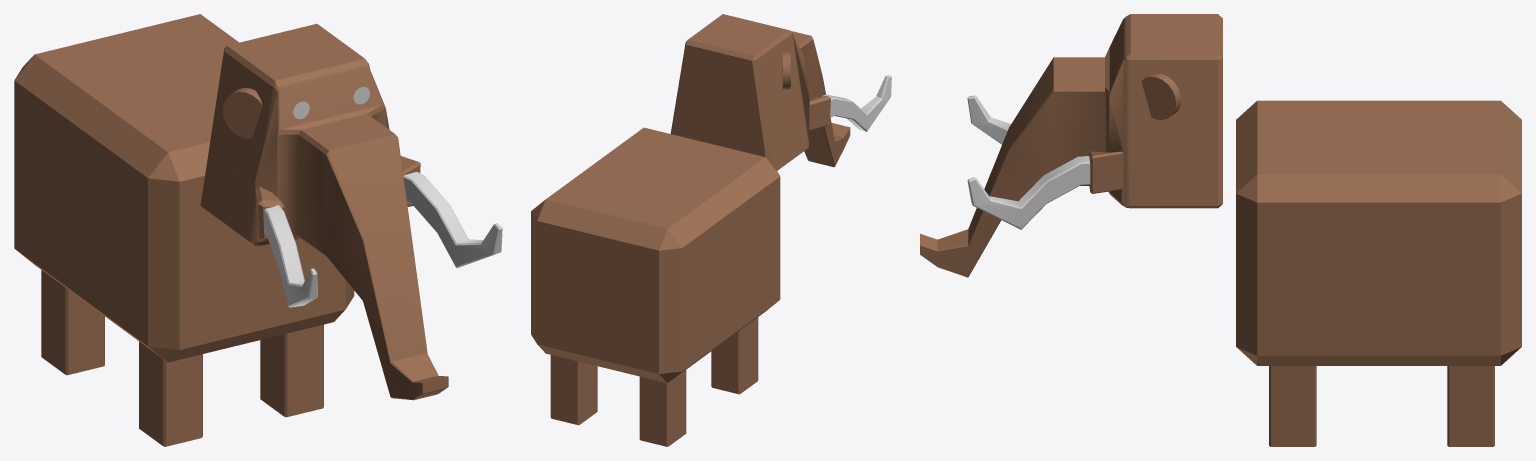
File: mammoth_normal.fbx
The picture shows the model from 3 angles, left to right: view 1: azimuth 30°, elevation 25°; view 2: azimuth 150°, elevation 25°; view 3: azimuth 270°, elevation 25°; orthographic projection. The views are drawn at different scales.
Parts seen in each view (by area): view 1: body, head, leg_LF, leg_RF, leg_LB, pCube21, pCube22, pCylinder67; view 2: body, head, leg_LB, leg_RB, leg_LF, pCube22; view 3: body, head, leg_RB, leg_RF, pCube21, pCylinder66, pCube22.
Boxes of the visible parts, box(x1,y1,x2,y2) form: body: box(14, 14, 354, 362); head: box(200, 23, 448, 400); leg_LF: box(139, 341, 202, 446); leg_RF: box(260, 324, 323, 417); leg_LB: box(41, 270, 104, 375); pCube21: box(403, 171, 502, 267); pCube22: box(264, 205, 318, 307); pCylinder67: box(222, 88, 262, 138); body: box(531, 127, 780, 383); head: box(670, 14, 850, 170); leg_LB: box(639, 370, 686, 446); leg_RB: box(550, 355, 597, 425); leg_LF: box(711, 317, 758, 394); pCube22: box(822, 75, 891, 131); body: box(1236, 100, 1521, 365); head: box(920, 14, 1222, 277); leg_RB: box(1447, 366, 1494, 446); leg_RF: box(1269, 366, 1316, 446); pCube21: box(967, 156, 1090, 229); pCylinder66: box(1141, 73, 1181, 119); pCube22: box(967, 95, 1010, 144).
Bounding box in the file's own units: 75.31 × 145 × 209.
